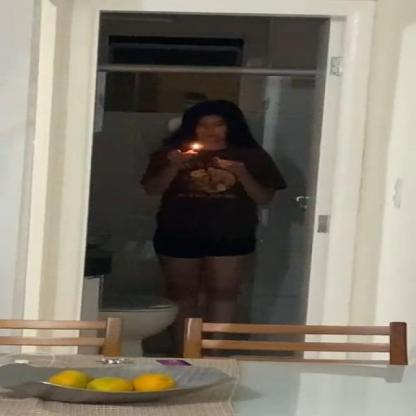fire: (189, 140, 205, 151)
